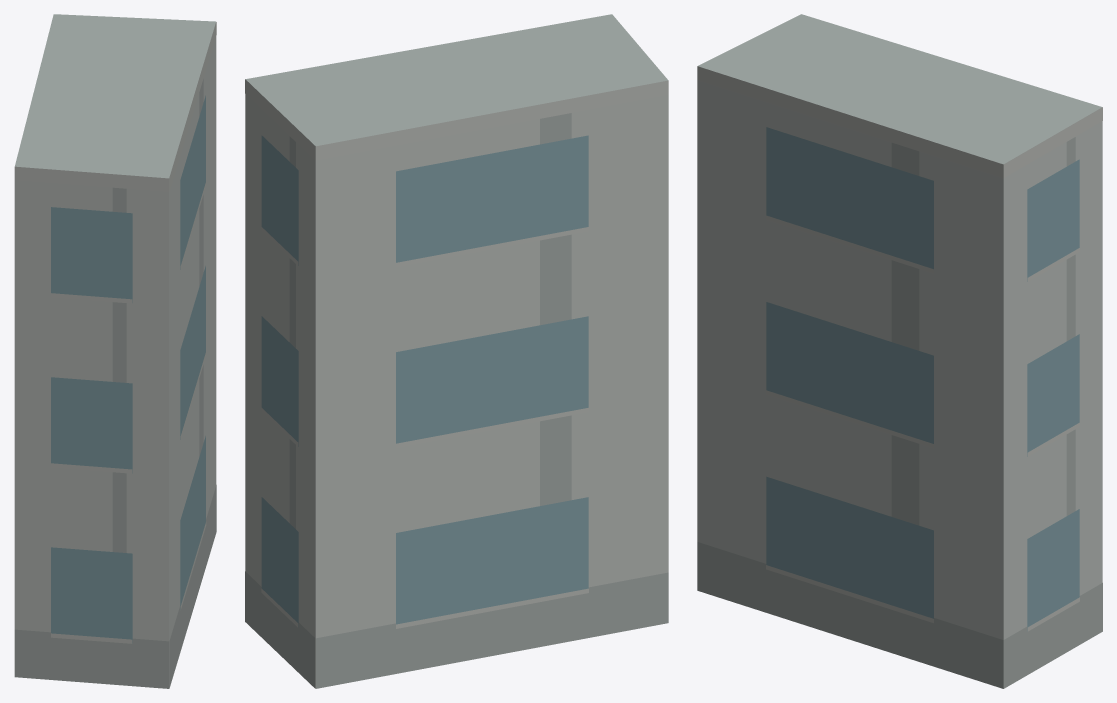
Rendered from survey-upis-32571568.glb.
3 views of the same model, side by side, from view 1: azimuth 30°, elevation 25°; view 2: azimuth 150°, elevation 25°; view 3: azimuth 270°, elevation 25° (orthographic). The views are drawn at different scales.
Parts seen in each view (by area): view 1: survey-upis-32571568.tmp; view 2: survey-upis-32571568.tmp; view 3: survey-upis-32571568.tmp.
Boxes of the visible parts, x1,y1,x2,y2 form: survey-upis-32571568.tmp: [14, 14, 216, 688]; survey-upis-32571568.tmp: [245, 14, 668, 688]; survey-upis-32571568.tmp: [697, 14, 1102, 688].
Bounding box in the file's own units: 5.64 × 9.15 × 6.42.
